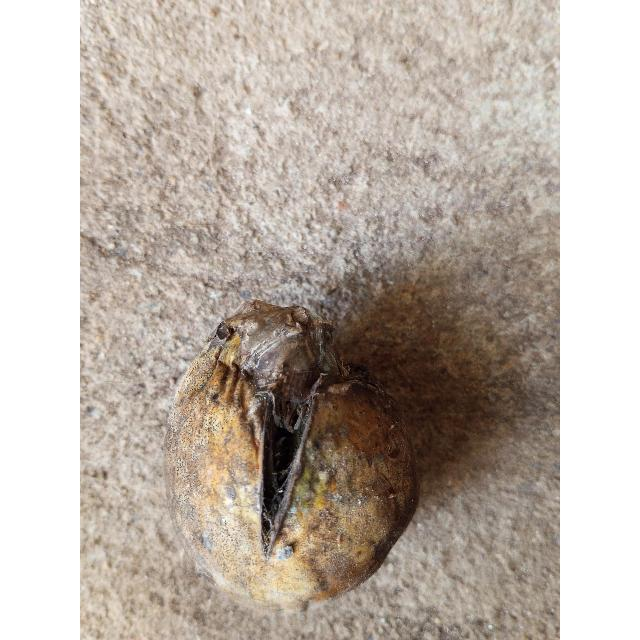damaged: (165, 300, 418, 606)
